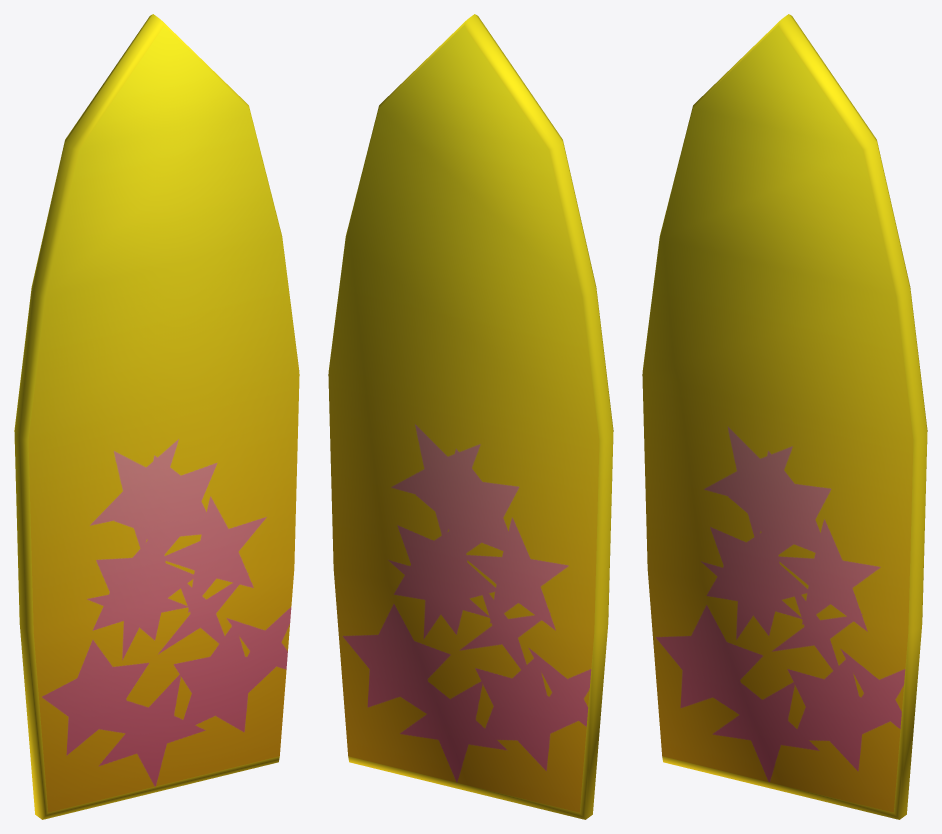
Rendered from BigSurf.fbx.
The picture shows the model from 3 angles, left to right: view 1: azimuth 30°, elevation 25°; view 2: azimuth 150°, elevation 25°; view 3: azimuth 330°, elevation 25°; orthographic projection.
Parts seen in each view (by area): view 1: BigSurf; view 2: BigSurf; view 3: BigSurf.
Part boxes in pixels (bbox=[...]): BigSurf: bbox=[14, 14, 299, 819]; BigSurf: bbox=[328, 14, 613, 819]; BigSurf: bbox=[642, 14, 927, 819].
Size of the model in its own units: 1.13 by 3 by 0.099.
